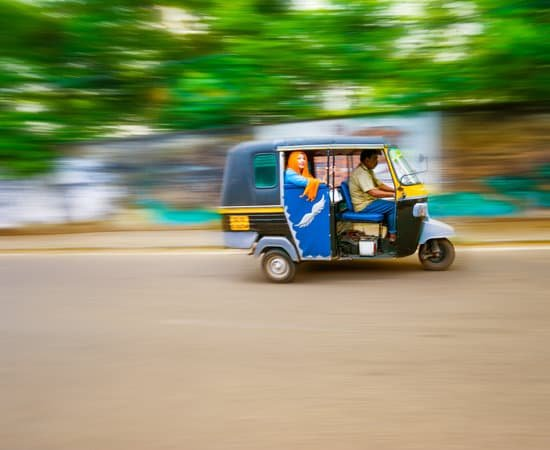threewheel: (216, 133, 455, 283)
